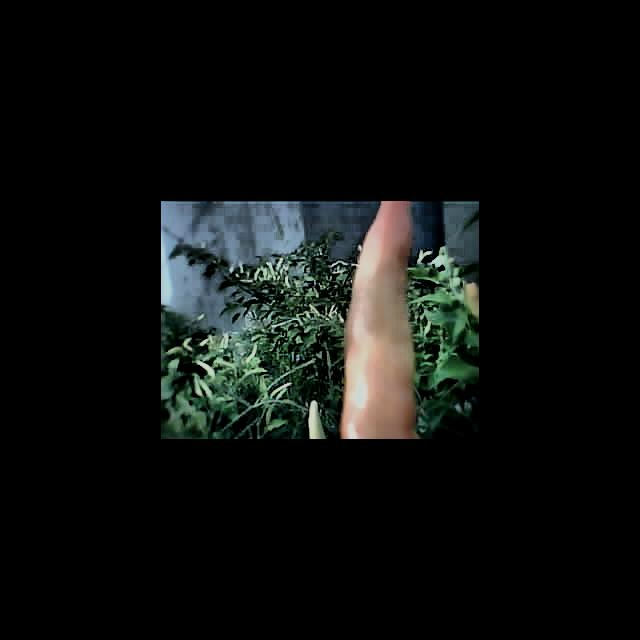Cabai: (339, 201, 430, 439)
